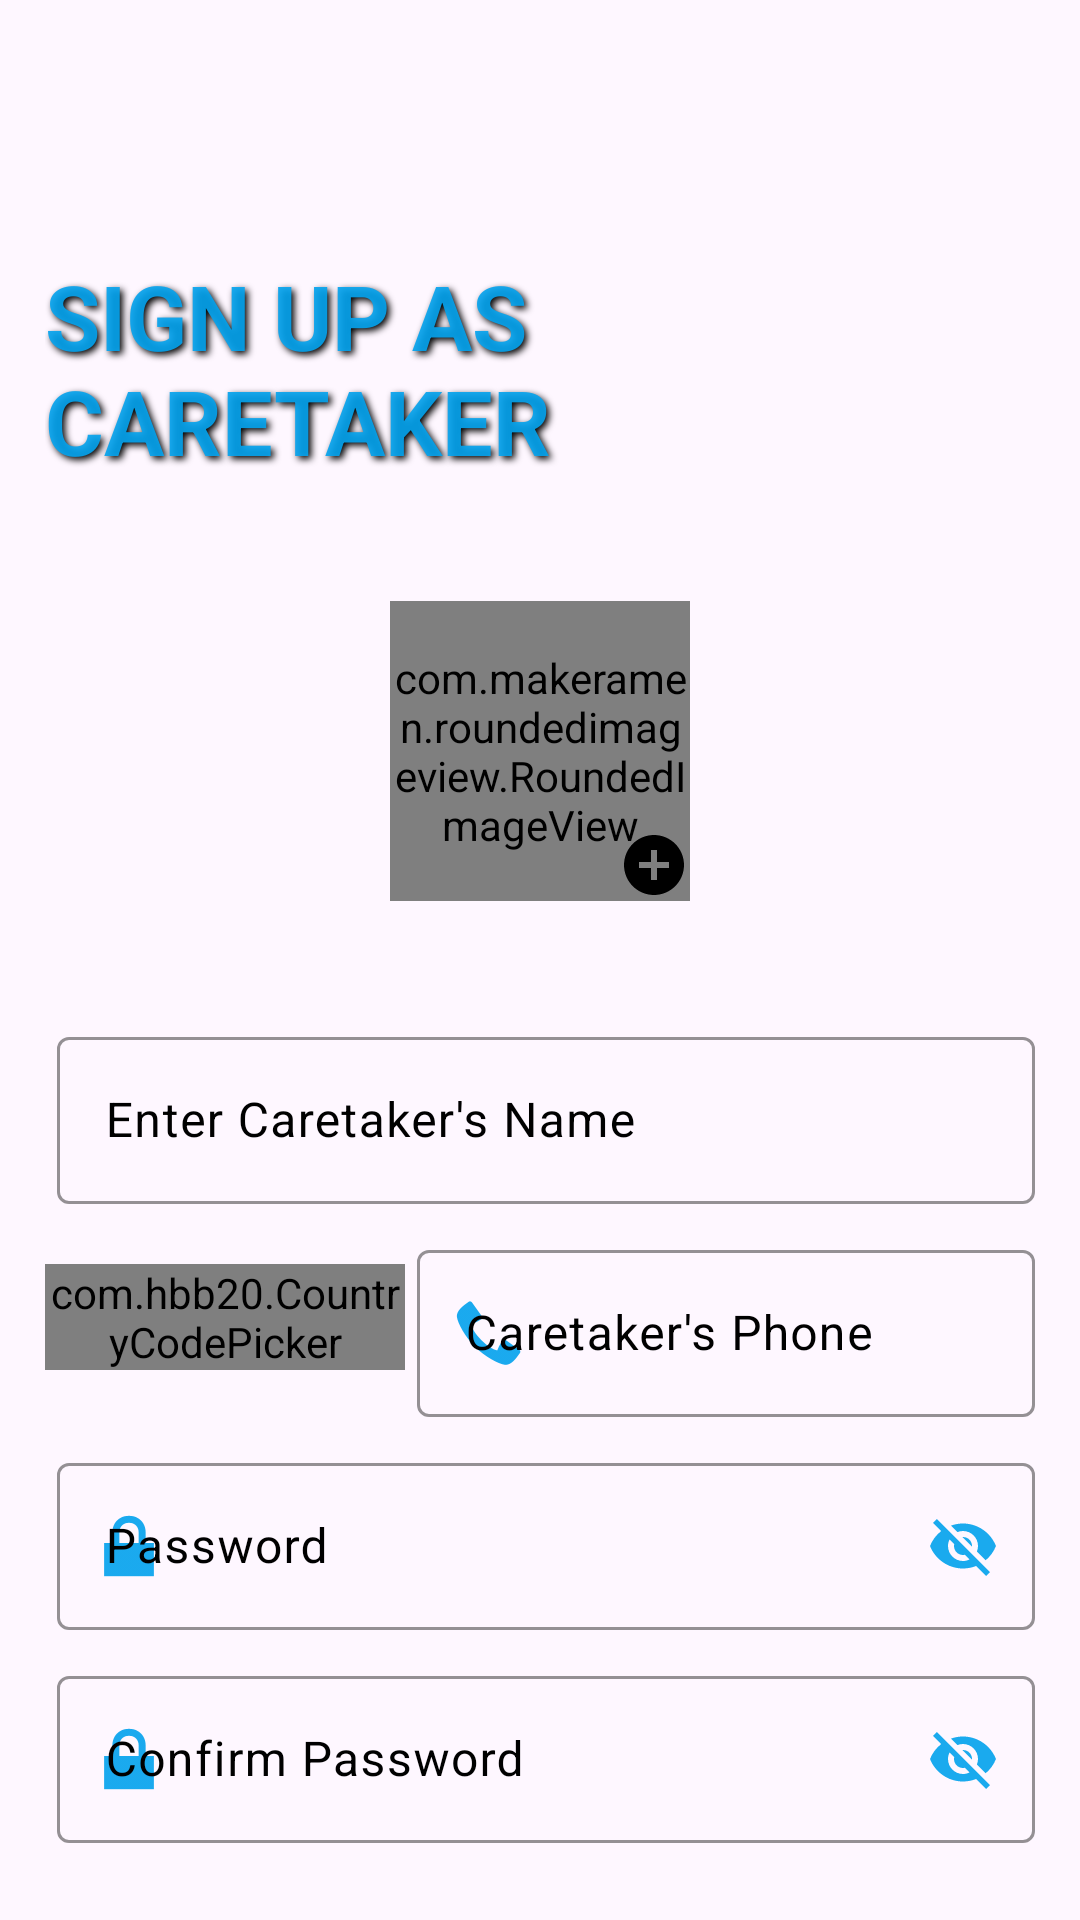

Icons on this 1080px x 1920px Android screen, each with the point to tap as (x,y):
add circle: (654,865)
